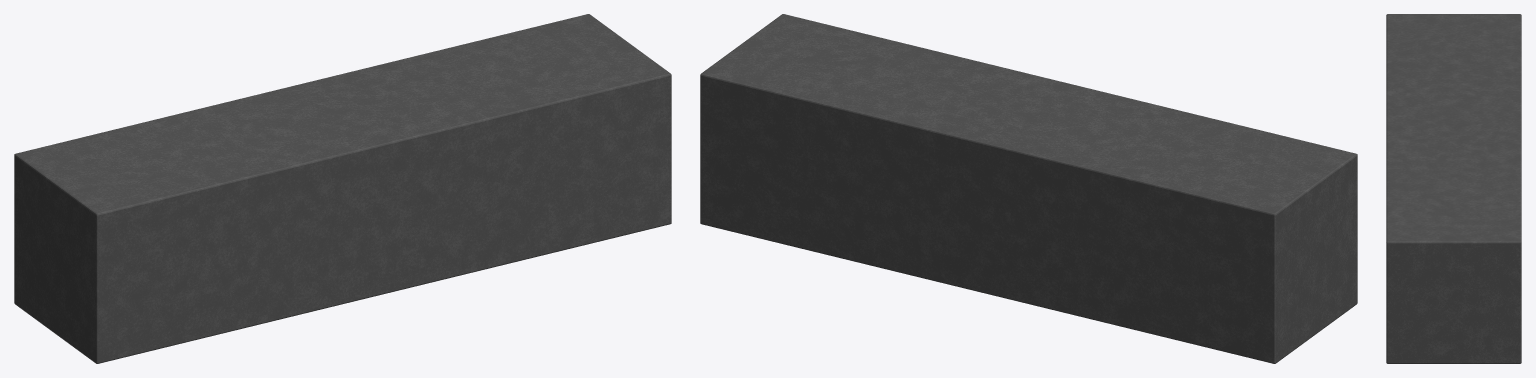
The model's file is padding_4,00x1,00x1,00_old-concrete_1_1_high.glb.
3 renders of one model, left to right at view 1: azimuth 30°, elevation 25°; view 2: azimuth 150°, elevation 25°; view 3: azimuth 270°, elevation 25°, orthographic. The views are drawn at different scales.
Parts seen in each view (by area): view 1: high_1; view 2: high_1; view 3: high_1.
Part boxes in pixels (box(x1,y1,x2,y2)): high_1: box(14, 14, 671, 363); high_1: box(700, 14, 1357, 363); high_1: box(1386, 14, 1521, 363).
Bounding box in the file's own units: 4 × 1 × 1.
Materials: 1 (1 with a texture image).
